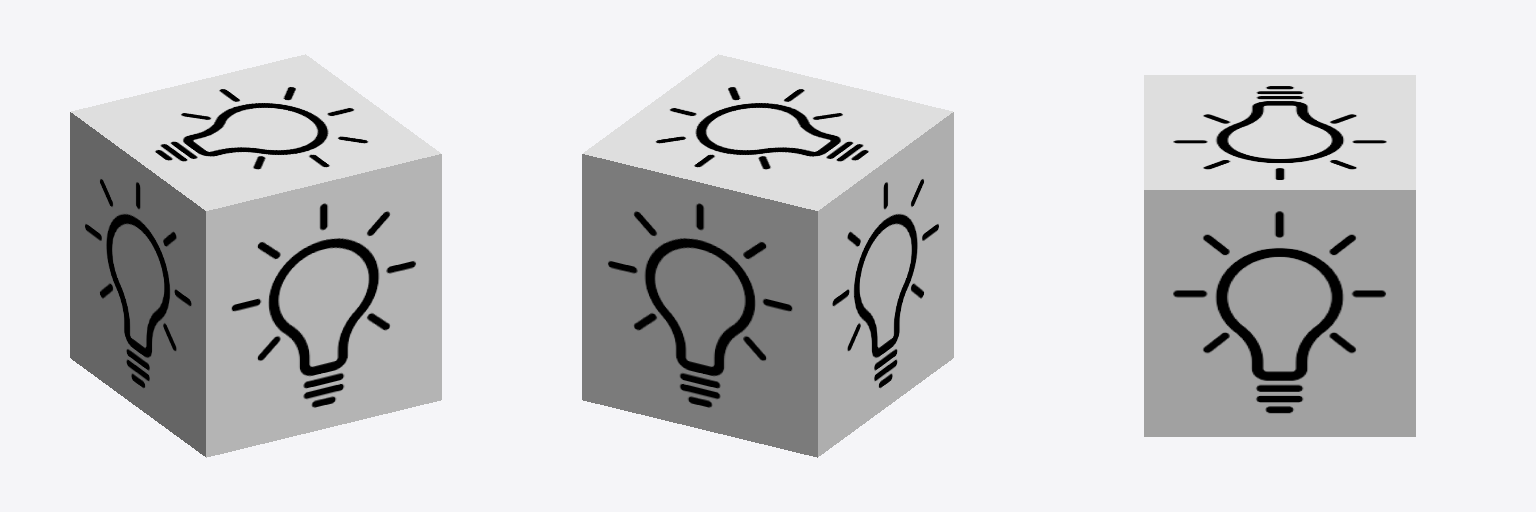
3 views of the same model, side by side, from view 1: azimuth 30°, elevation 25°; view 2: azimuth 150°, elevation 25°; view 3: azimuth 270°, elevation 25° (orthographic).
Parts seen in each view (by area): view 1: Cube; view 2: Cube; view 3: Cube.
Part boxes in pixels (x1,y1,x2,y2): Cube: (70,54,441,457); Cube: (582,54,953,457); Cube: (1144,75,1415,436).
Size of the model in its own units: 2 by 2 by 2.
1 materials, 1 textured.